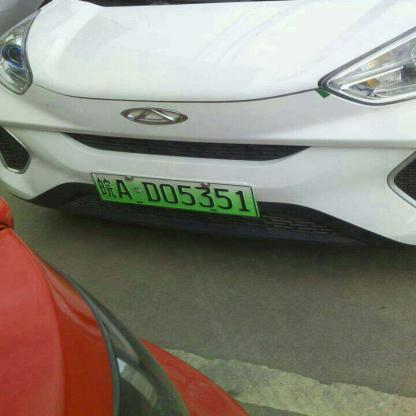lp: (92, 172, 257, 215)
